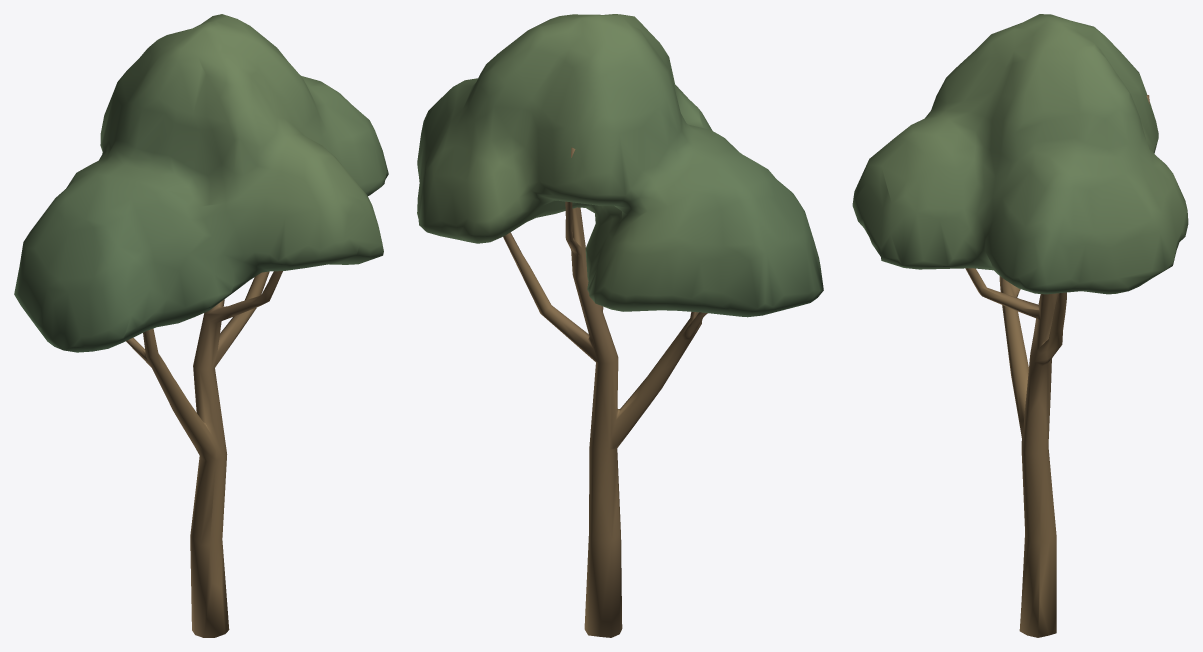
File: tree_field_maple_b.glb
The picture shows the model from 3 angles, left to right: view 1: azimuth 30°, elevation 25°; view 2: azimuth 150°, elevation 25°; view 3: azimuth 270°, elevation 25°; orthographic projection. The views are drawn at different scales.
Visible parts, largest first — view 1: Tree_B_connected_foliage, Tree_B_branching_trunk; view 2: Tree_B_connected_foliage, Tree_B_branching_trunk; view 3: Tree_B_connected_foliage, Tree_B_branching_trunk.
Part boxes in pixels (x1,y1,x2,y2): Tree_B_connected_foliage: (14,14,388,352); Tree_B_branching_trunk: (126,271,282,637); Tree_B_connected_foliage: (417,14,823,317); Tree_B_branching_trunk: (503,147,707,637); Tree_B_connected_foliage: (852,14,1188,294); Tree_B_branching_trunk: (965,95,1149,637).
Size of the model in its own units: 2.65 by 4.21 by 2.09.
